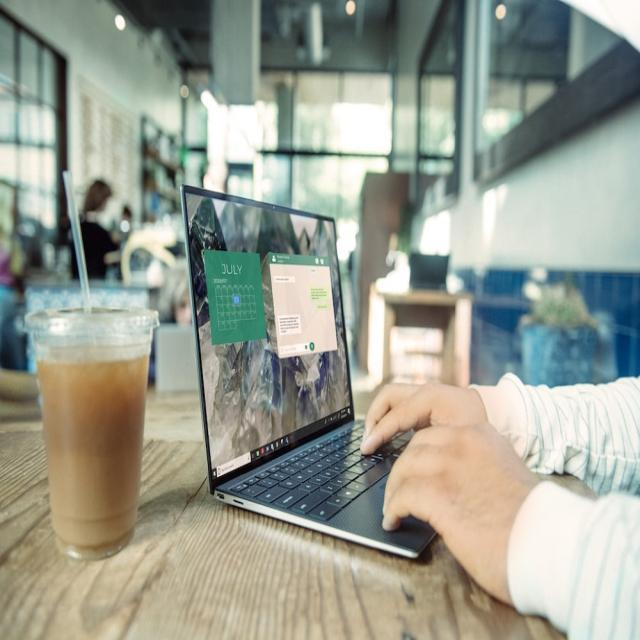keyboard-with-hands: (226, 421, 469, 550)
